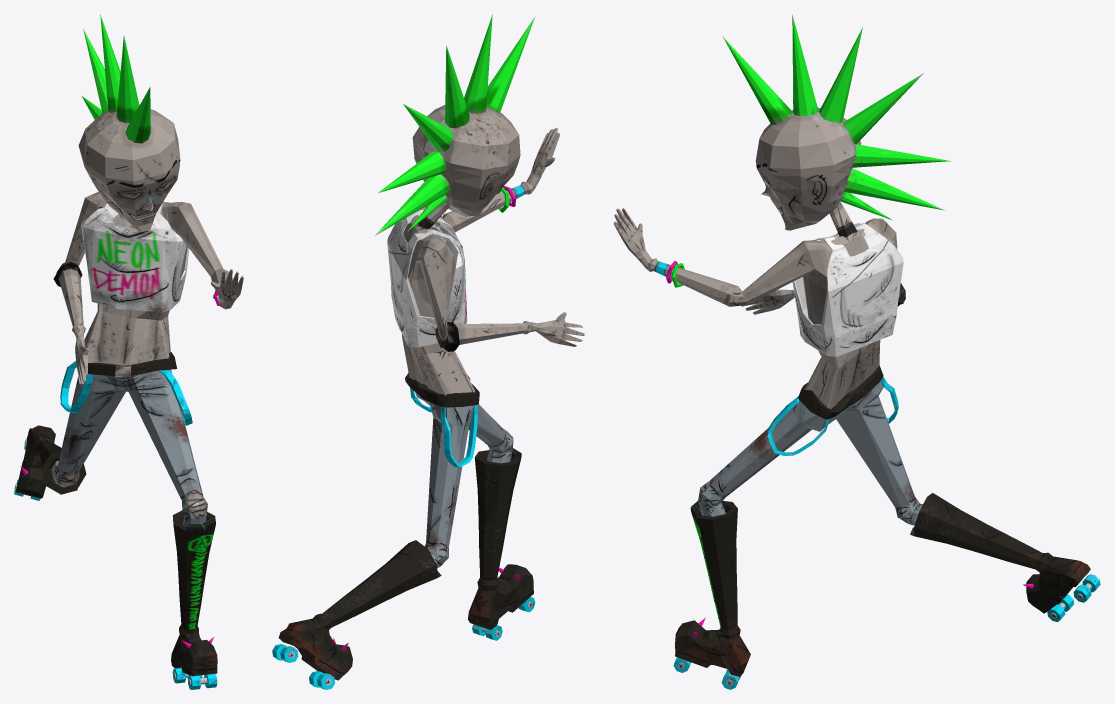
File: punkAnimation_000018.obj
3 renders of one model, left to right at view 1: azimuth 30°, elevation 25°; view 2: azimuth 150°, elevation 25°; view 3: azimuth 270°, elevation 25°, orthographic. The views are drawn at different scales.
Visible parts, largest first — view 1: Cube.004_Cube.003; view 2: Cube.004_Cube.003; view 3: Cube.004_Cube.003.
Boxes of the visible parts, x1=… form: Cube.004_Cube.003: x1=14, y1=14, x2=243, y2=689; Cube.004_Cube.003: x1=272, y1=14, x2=584, y2=689; Cube.004_Cube.003: x1=613, y1=14, x2=1100, y2=689.
Size of the model in its own units: 1.76 by 7.11 by 4.81.
